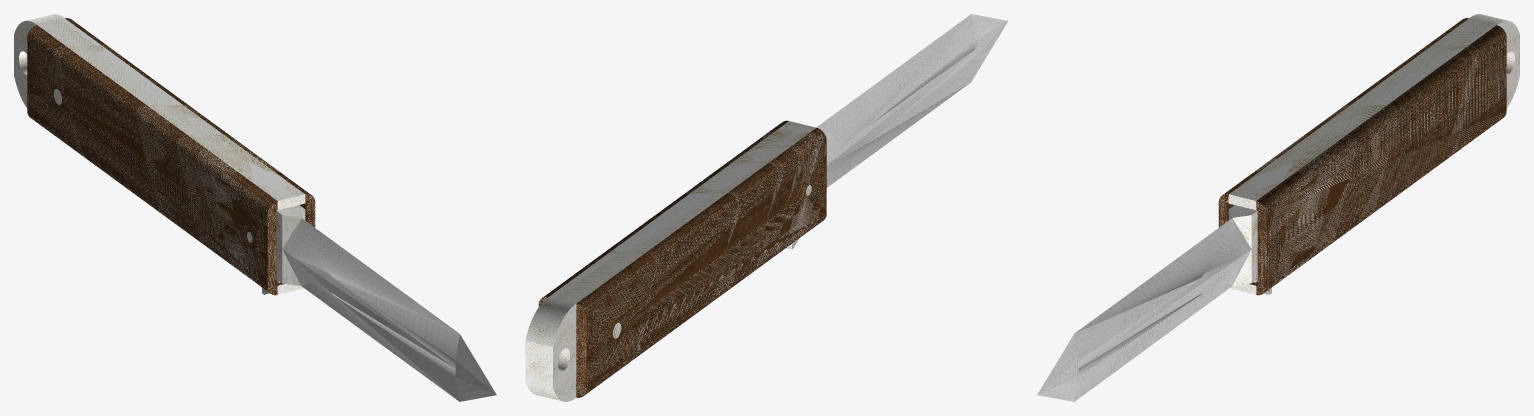
Rendered from model_align.obj.
3 views of the same model, side by side, from view 1: azimuth 30°, elevation 25°; view 2: azimuth 150°, elevation 25°; view 3: azimuth 330°, elevation 25° (orthographic).
Visible parts, largest first — view 1: mesh1_mesh1-geometry; view 2: mesh1_mesh1-geometry; view 3: mesh1_mesh1-geometry.
Boxes of the visible parts, box(x1,y1,x2,y2) form: mesh1_mesh1-geometry: box(14, 14, 496, 401); mesh1_mesh1-geometry: box(525, 14, 1007, 401); mesh1_mesh1-geometry: box(1037, 14, 1519, 401).
Bounding box in the file's own units: 0.0142 × 0.0308 × 0.2422.
